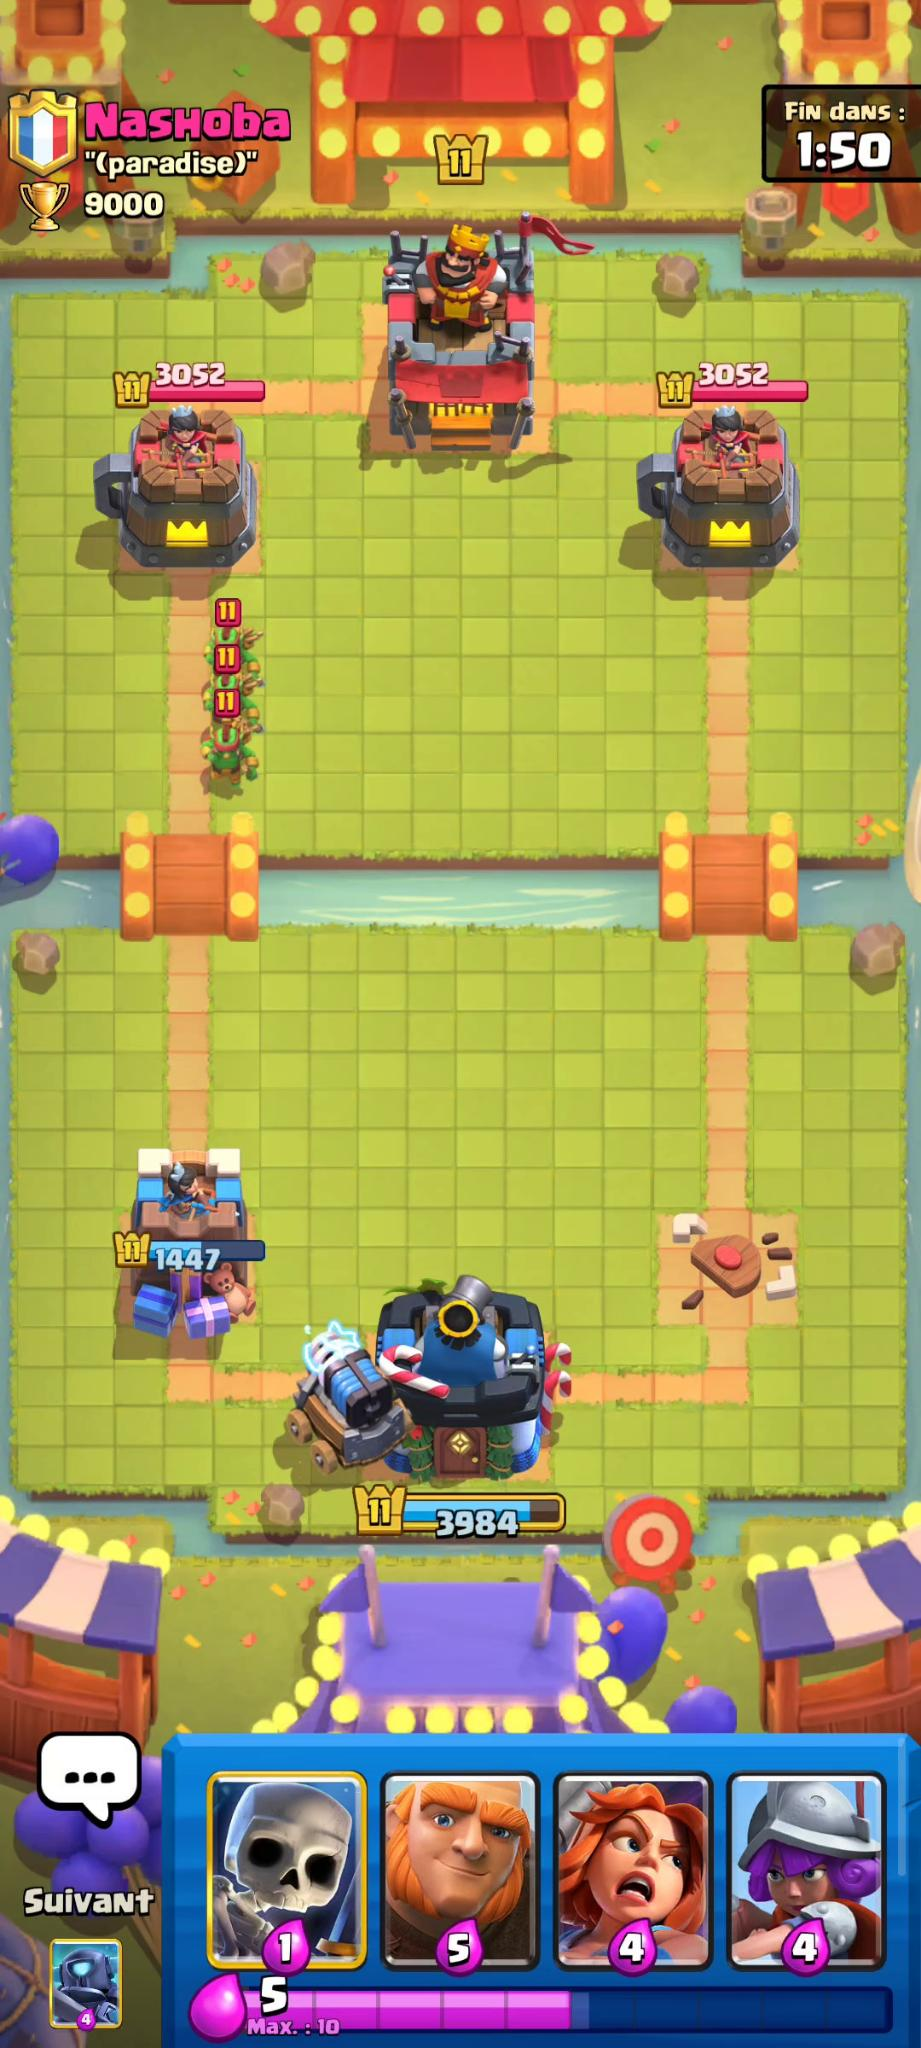gobelin_lances: (189, 613, 265, 678), (192, 722, 257, 789), (204, 660, 265, 717)
zappy: (294, 1323, 384, 1452)
